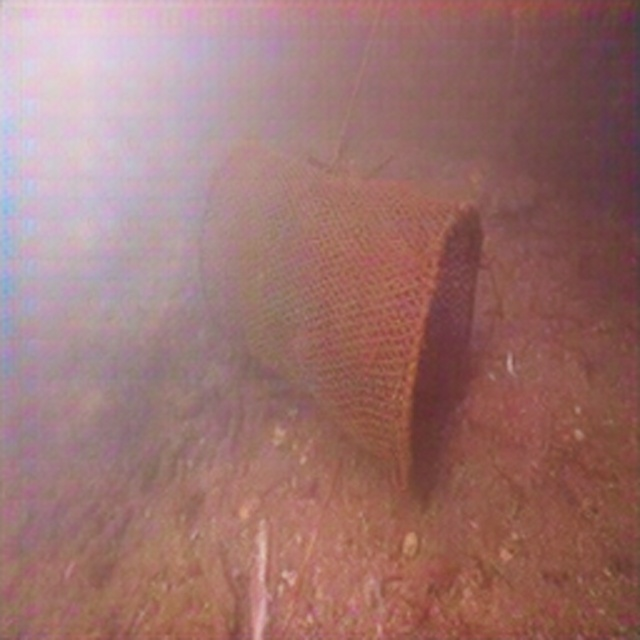mine: (196, 135, 484, 498)
